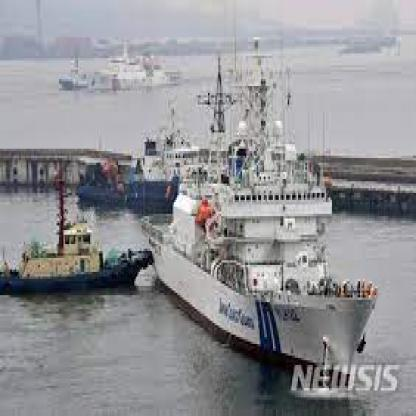fish-b: (150, 26, 385, 390), (1, 167, 158, 307)
